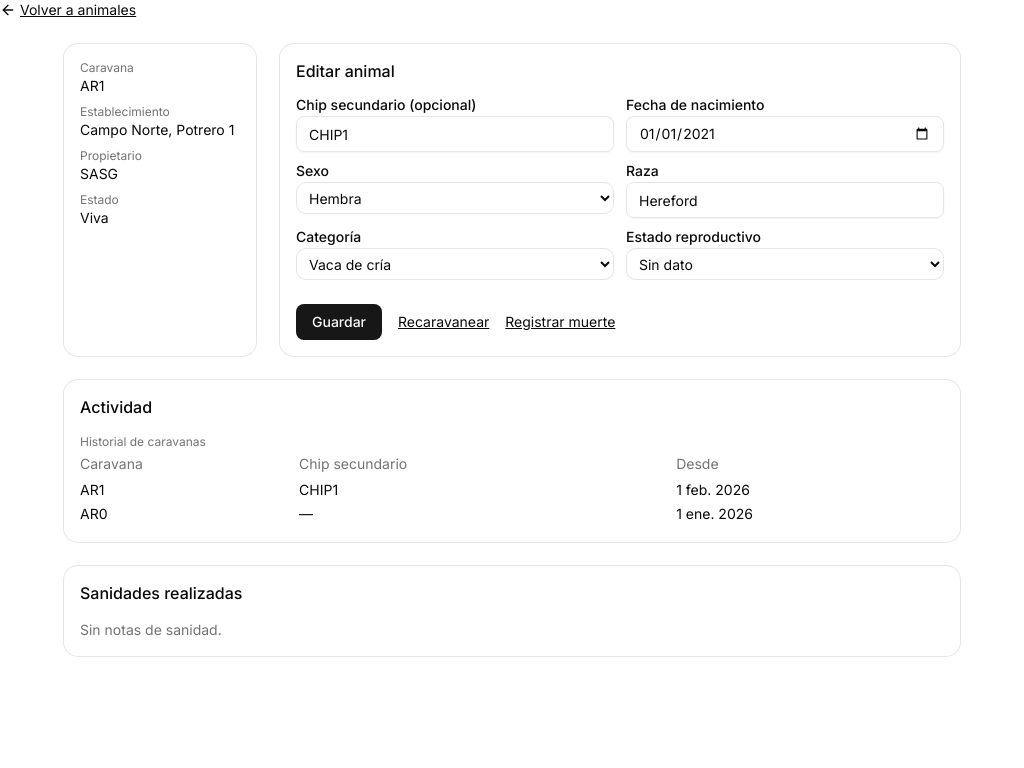
Test case: AnimalDetail › opens recaravaneo and registrar muerte modals for a living animal, next to the Guardar button in the edit card
The width and height of the screenshot is (1024, 768).
Expected: the button "Registrar muerte" is shown, [505, 312, 615, 332]
Click the button "Recaravanear": (444, 322) [398, 312, 489, 332]
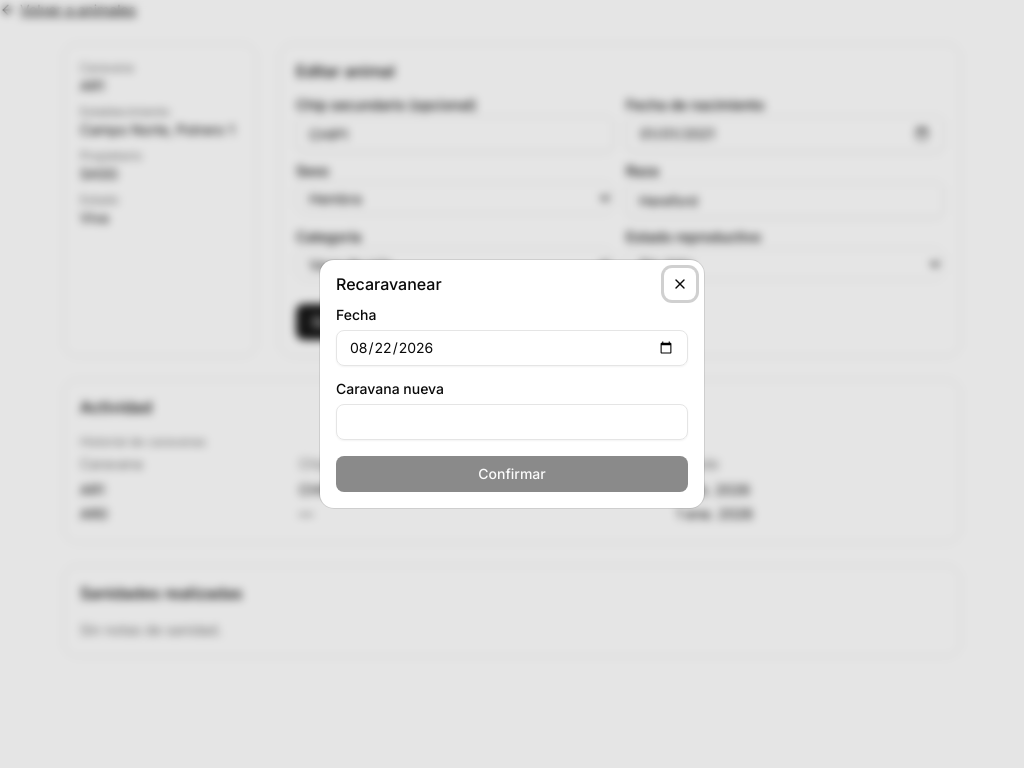
Expected: the field labelled "Caravana nueva" is shown, [336, 404, 688, 440]
